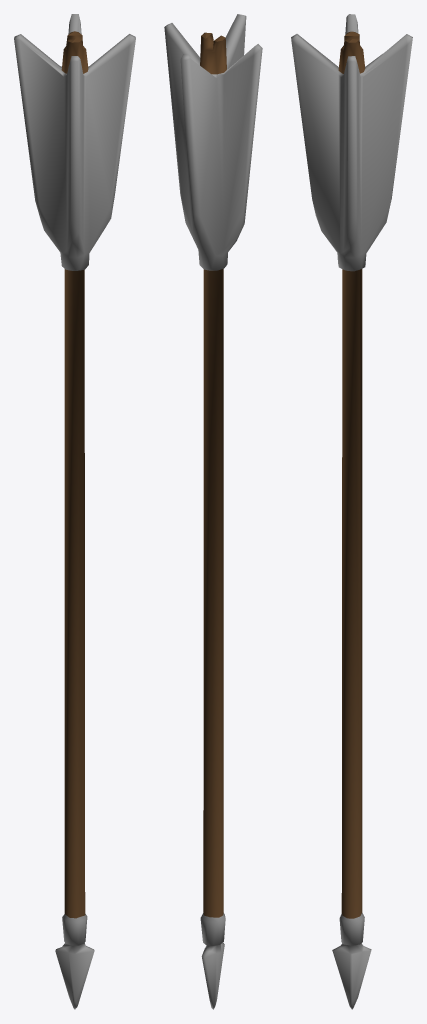
The model's file is ArrowMesh.fbx.
The picture shows the model from 3 angles, left to right: view 1: azimuth 90°, elevation 25°; view 2: azimuth 150°, elevation 25°; view 3: azimuth 270°, elevation 25°; orthographic projection.
Parts seen in each view (by area): view 1: 17017_PersianBowandArrow_v2; view 2: 17017_PersianBowandArrow_v2; view 3: 17017_PersianBowandArrow_v2.
Boxes of the visible parts, x1,y1,x2,y2 form: 17017_PersianBowandArrow_v2: [14, 14, 135, 1009]; 17017_PersianBowandArrow_v2: [164, 14, 262, 1009]; 17017_PersianBowandArrow_v2: [291, 14, 412, 1009].
Size of the model in its own units: 36.38 by 355 by 40.24.
